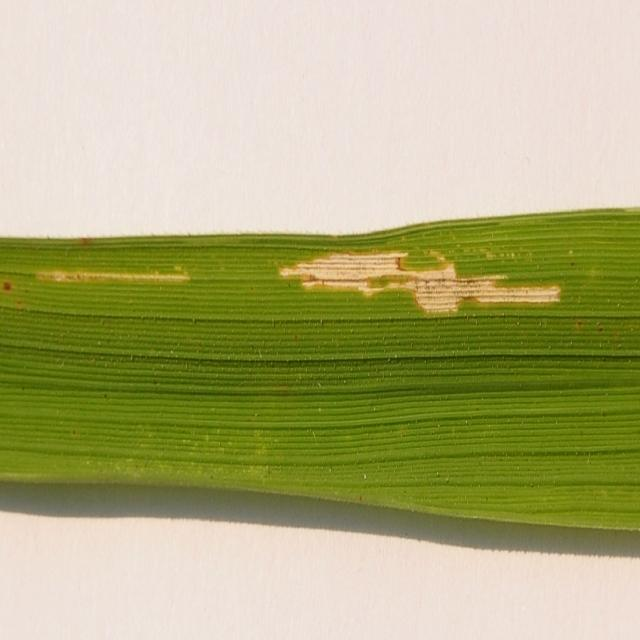leaf blight: (276, 229, 567, 325), (34, 250, 202, 300)
